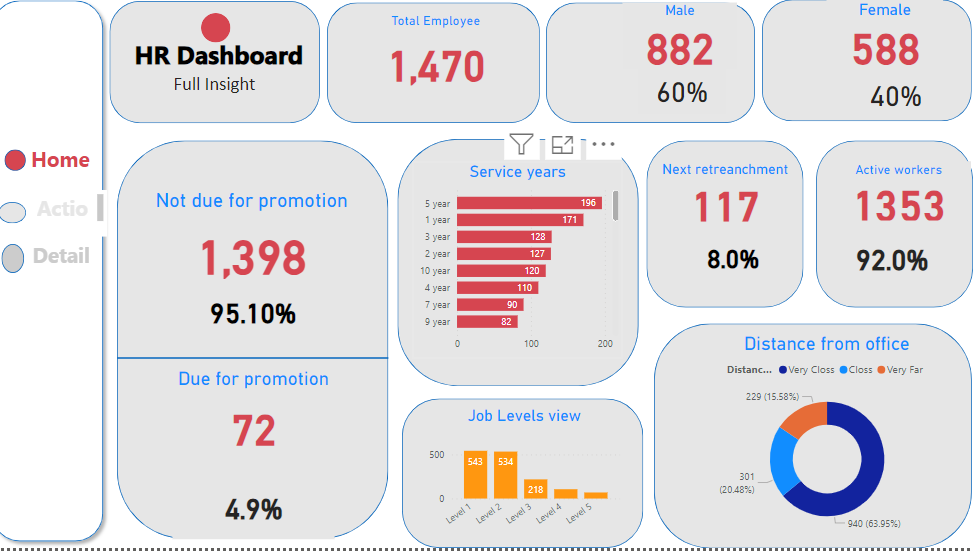

The page's visual inventory and layout, read from the dashboard file:
{"tool":"powerbi","page":{"name":"Page 1","canvas":[1280,720],"ordinal":0},"visuals":[{"type":"shape","box":[0,5.7,161.1,714.6],"z":0},{"type":"shape","box":[1069.5,195.8,202.2,215.2],"z":1000},{"type":"shape","box":[169.9,194.2,349.5,512.9],"z":2000},{"type":"shape","box":[999.9,12.9,270.2,156.9],"z":3000},{"type":"shape","box":[722,18.1,269.1,155.3],"z":4000},{"type":"shape","box":[439.9,18.1,274.3,155.3],"z":5000},{"type":"card","title":"Total Employee","fields":{"Values":["Sheet1.Total_Employee"]},"box":[489.1,31.1,183.7,103.5],"z":6000},{"type":"card","title":"Male","fields":{"Values":["Sheet1.Male_Staff"]},"box":[820.3,18.1,147.5,85.4],"z":7000},{"type":"shape","box":[161.1,15.2,271,157.3],"z":8000},{"type":"card","title":"Female","fields":{"Values":["Sheet1.Female_Staff"]},"box":[1084.2,12.9,150.1,90.6],"z":9000},{"type":"card","fields":{"Values":["Sheet1.%Male"]},"box":[841,98.3,113.9,62.1],"z":10000},{"type":"card","fields":{"Values":["Sheet1.%Female"]},"box":[1110.1,103.5,124.2,59.5],"z":11000},{"type":"shape","box":[530.5,194.1,310.5,318.3],"z":12000},{"type":"shape","box":[537.2,527.5,310.7,192.5],"z":13000},{"type":"shape","box":[852.7,194.2,202.2,215.2],"z":14000},{"type":"shape","box":[860.8,430.4,409.3,289.6],"z":15000},{"type":"textbox","box":[169.9,56.6,262.1,71.2],"z":16000},{"type":"textbox","box":[165,101.9,262.1,71.2],"z":17000},{"type":"shape","box":[278.6,30.3,37.9,37.9],"z":18000},{"type":"card","title":"Not due for promotion","fields":{"Values":["Sheet1.Not due for promotion"]},"box":[194.1,256.2,300.2,132],"z":19000},{"type":"card","fields":{"Values":["Sheet1.Due for promotion"]},"box":[195.8,377,299.3,74.4],"z":20000},{"type":"card","title":"Due for promotion","fields":{"Values":["Sheet1.Due for promotion"]},"box":[224.1,486.8,243.4,119.8],"z":21000},{"type":"card","fields":{"Values":["Sheet1.%Due"]},"box":[241.5,623.9,208.6,85],"z":22000},{"type":"shape","box":[170,463.6,349.6,23.2],"z":23000},{"type":"barChart","title":" Service years","fields":{"Category":["Sheet1.Service year"],"Y":["Sheet1.Total_Employee"]},"box":[550.5,222.1,270.4,253],"z":24000},{"type":"clusteredColumnChart","title":"Job Levels view","fields":{"Category":["Sheet1.Job Levels"],"Y":["Sheet1.Total_Employee"]},"box":[566,537,256.9,173.8],"z":25000},{"type":"card","title":"Next retreanchment","fields":{"Values":["Sheet1.will be retreanched"]},"box":[860.8,221.7,182.8,82.5],"z":26000},{"type":"card","title":"Active workers","fields":{"Values":["Sheet1.On service"]},"box":[1084,221.7,186.1,80.9],"z":27000},{"type":"card","fields":{"Values":["Sheet1.% next retrenchment"]},"box":[894.7,304.2,137.5,84.1],"z":28000},{"type":"card","fields":{"Values":["Sheet1.% active workers"]},"box":[1084,302.6,168.3,85.8],"z":29000},{"type":"donutChart","title":"Distance from office","fields":{"Category":["Sheet1.Distance from office"],"Y":["CountNonNull(Sheet1.Distance from office)"]},"box":[936.8,441.7,294.5,268.6],"z":30000},{"type":"shape","box":[25.9,207.1,27.5,27.5],"z":31000},{"type":"textbox","box":[53.4,195.8,93.8,59.9],"z":32000},{"type":"shape","box":[17.8,275.1,35.6,27.5],"z":33000},{"type":"textbox","box":[61.5,258.9,95.5,59.9],"z":34000},{"type":"shape","box":[21,328.4,29.1,37.2],"z":35000},{"type":"textbox","box":[56,318.7,92.7,59.9],"z":35001}]}

Visuals, with their boxes on the page's 1280x720 design canvas (x1, y1, x2, y2). These are canvas units, not pixel positions in the 973x552 screenshot, which may show the page scaled, cropped or inside an application window:
shape: [left=0, top=6, right=161, bottom=720]
shape: [left=1070, top=196, right=1272, bottom=411]
shape: [left=170, top=194, right=519, bottom=707]
shape: [left=1000, top=13, right=1270, bottom=170]
shape: [left=722, top=18, right=991, bottom=173]
shape: [left=440, top=18, right=714, bottom=173]
"Total Employee" card: [left=489, top=31, right=673, bottom=135]
"Male" card: [left=820, top=18, right=968, bottom=104]
shape: [left=161, top=15, right=432, bottom=172]
"Female" card: [left=1084, top=13, right=1234, bottom=104]
card - Sheet1.%Male: [left=841, top=98, right=955, bottom=160]
card - Sheet1.%Female: [left=1110, top=104, right=1234, bottom=163]
shape: [left=530, top=194, right=841, bottom=512]
shape: [left=537, top=528, right=848, bottom=720]
shape: [left=853, top=194, right=1055, bottom=409]
shape: [left=861, top=430, right=1270, bottom=720]
textbox: [left=170, top=57, right=432, bottom=128]
textbox: [left=165, top=102, right=427, bottom=173]
shape: [left=279, top=30, right=316, bottom=68]
"Not due for promotion" card: [left=194, top=256, right=494, bottom=388]
card - Sheet1.Due for promotion: [left=196, top=377, right=495, bottom=451]
"Due for promotion" card: [left=224, top=487, right=468, bottom=607]
card - Sheet1.%Due: [left=242, top=624, right=450, bottom=709]
shape: [left=170, top=464, right=520, bottom=487]
" Service years" barChart: [left=550, top=222, right=821, bottom=475]
"Job Levels view" clusteredColumnChart: [left=566, top=537, right=823, bottom=711]
"Next retreanchment" card: [left=861, top=222, right=1044, bottom=304]
"Active workers" card: [left=1084, top=222, right=1270, bottom=303]
card - Sheet1.% next retrenchment: [left=895, top=304, right=1032, bottom=388]
card - Sheet1.% active workers: [left=1084, top=303, right=1252, bottom=388]
"Distance from office" donutChart: [left=937, top=442, right=1231, bottom=710]
shape: [left=26, top=207, right=53, bottom=235]
textbox: [left=53, top=196, right=147, bottom=256]
shape: [left=18, top=275, right=53, bottom=303]
textbox: [left=62, top=259, right=157, bottom=319]
shape: [left=21, top=328, right=50, bottom=366]
textbox: [left=56, top=319, right=149, bottom=379]
